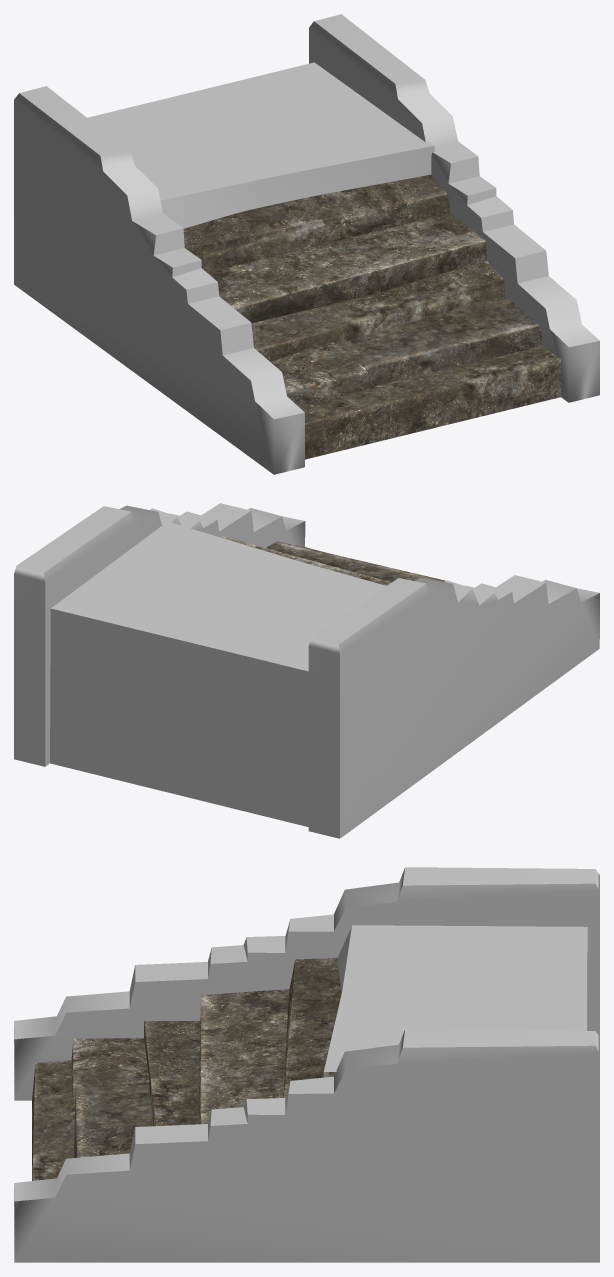
The model's file is Ruins_22A_LOD1.fbx.
The picture shows the model from 3 angles, top to bottom: view 1: azimuth 30°, elevation 25°; view 2: azimuth 150°, elevation 25°; view 3: azimuth 270°, elevation 25°; orthographic projection. The views are drawn at different scales.
Visible parts, largest first — view 1: polySurface3844; view 2: polySurface3844; view 3: polySurface3844.
Part boxes in pixels (box(x1,y1,x2,y2)): polySurface3844: box(14, 14, 599, 474); polySurface3844: box(14, 503, 599, 838); polySurface3844: box(14, 867, 599, 1262).
Bounding box in the file's own units: 3.9 × 2.21 × 5.39.
